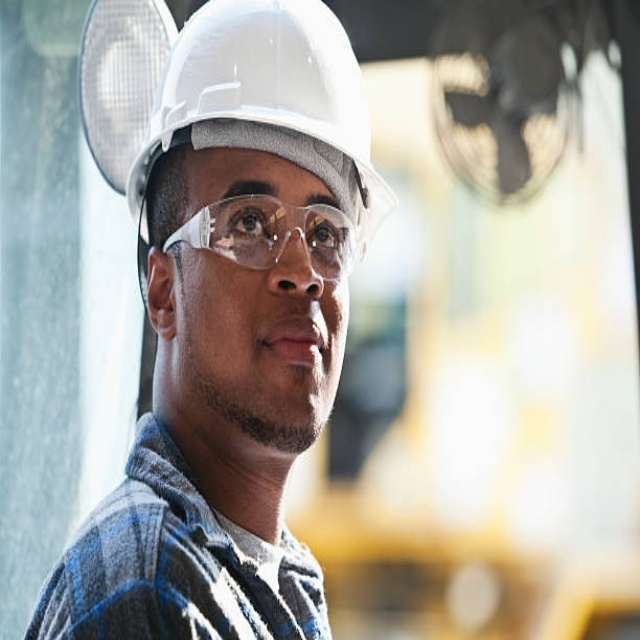Gafas: (159, 190, 366, 282)
Sin_mascara: (253, 303, 333, 431)
